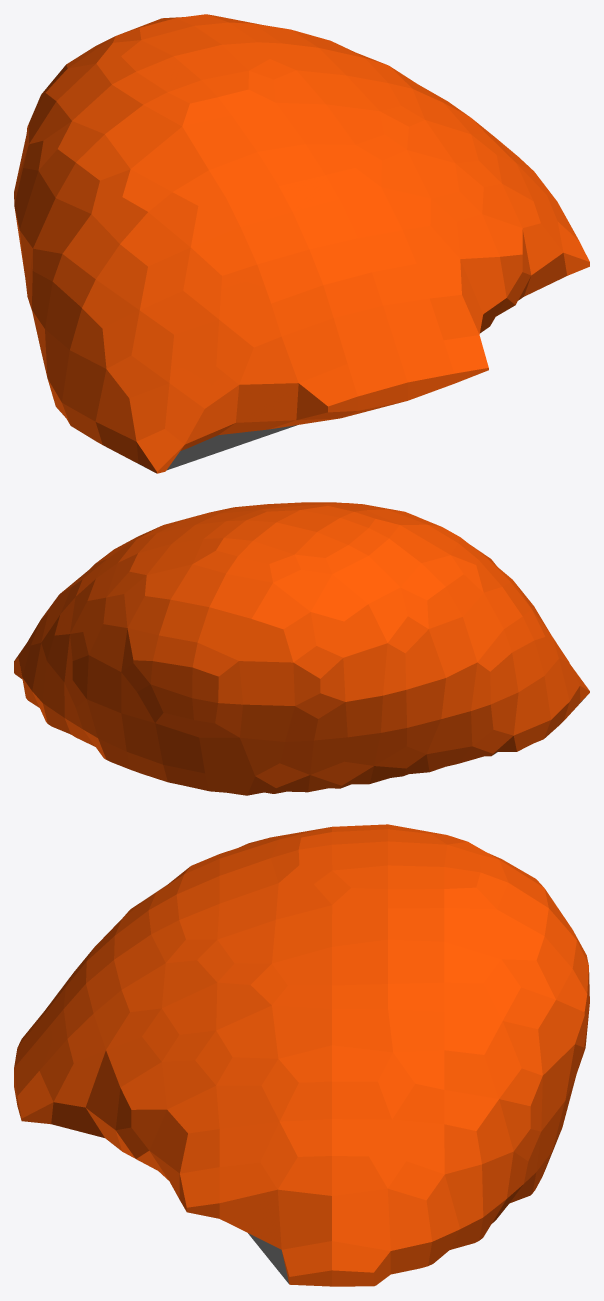
The picture shows the model from 3 angles, top to bottom: view 1: azimuth 30°, elevation 25°; view 2: azimuth 150°, elevation 25°; view 3: azimuth 270°, elevation 25°; orthographic projection. The views are drawn at different scales.
Parts seen in each view (by area): view 1: 19.017; view 2: 19.017; view 3: 19.017.
Part boxes in pixels (<box>): 19.017: <box>14,14,589,473</box>; 19.017: <box>14,502,589,795</box>; 19.017: <box>14,824,589,1286</box>.
Bounding box in the file's own units: 5.83 × 2.6 × 5.13.
